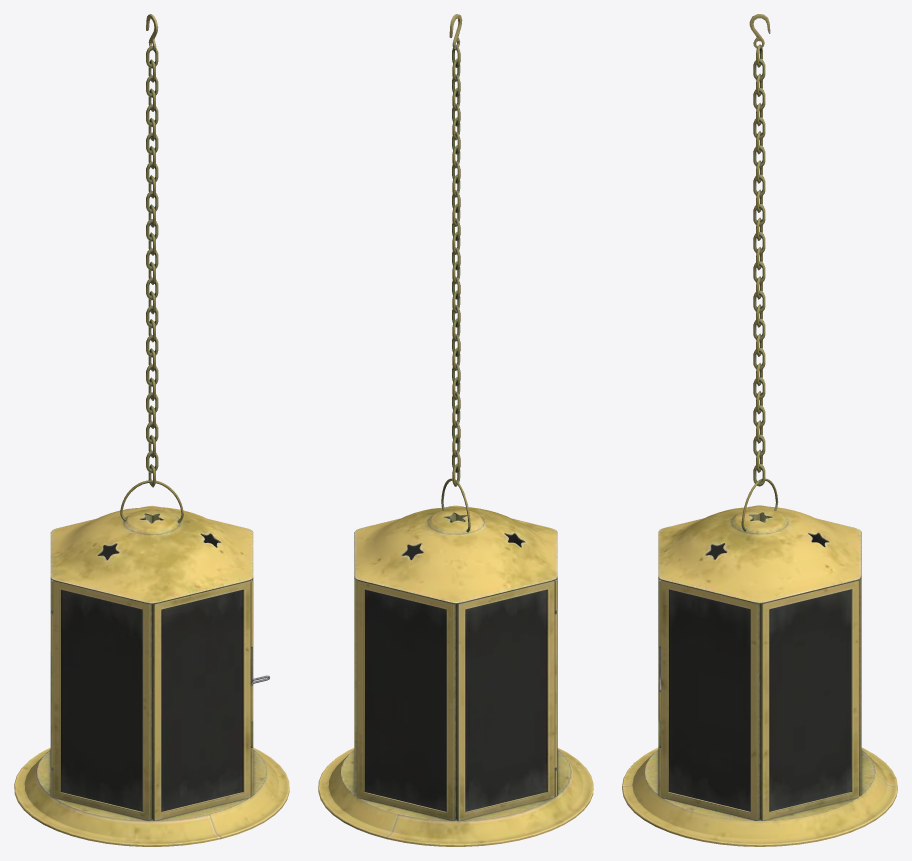
File: brass_diya_lantern.glb
3 renders of one model, left to right at view 1: azimuth 30°, elevation 25°; view 2: azimuth 150°, elevation 25°; view 3: azimuth 270°, elevation 25°, orthographic.
Visible parts, largest first — view 1: brass_diya_lantern, brass_diya_lantern_connection; view 2: brass_diya_lantern, brass_diya_lantern_connection; view 3: brass_diya_lantern, brass_diya_lantern_connection.
Boxes of the visible parts, box(x1,y1,x2,y2) form: brass_diya_lantern: box(14, 505, 289, 846); brass_diya_lantern_connection: box(120, 14, 183, 522); brass_diya_lantern: box(318, 505, 593, 846); brass_diya_lantern_connection: box(441, 14, 470, 532); brass_diya_lantern: box(622, 505, 897, 846); brass_diya_lantern_connection: box(741, 14, 778, 531).
Bounding box in the file's own units: 0.123 × 0.3808 × 0.123.
3 materials, 3 textured.
